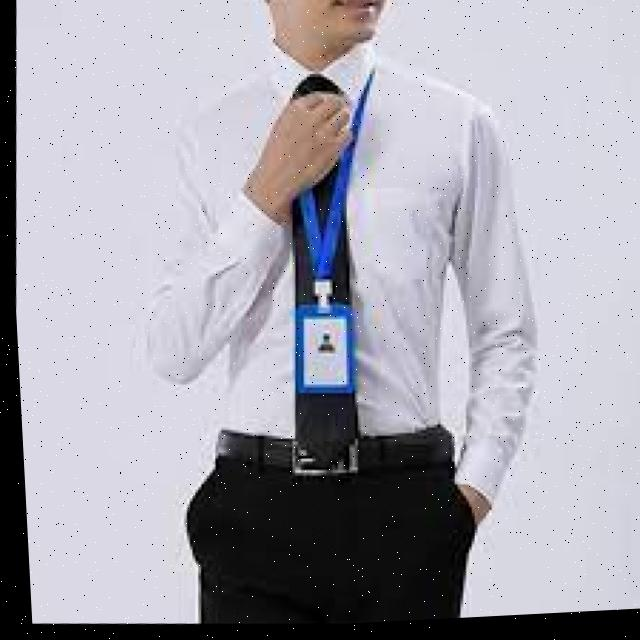id_card: (251, 74, 380, 408)
